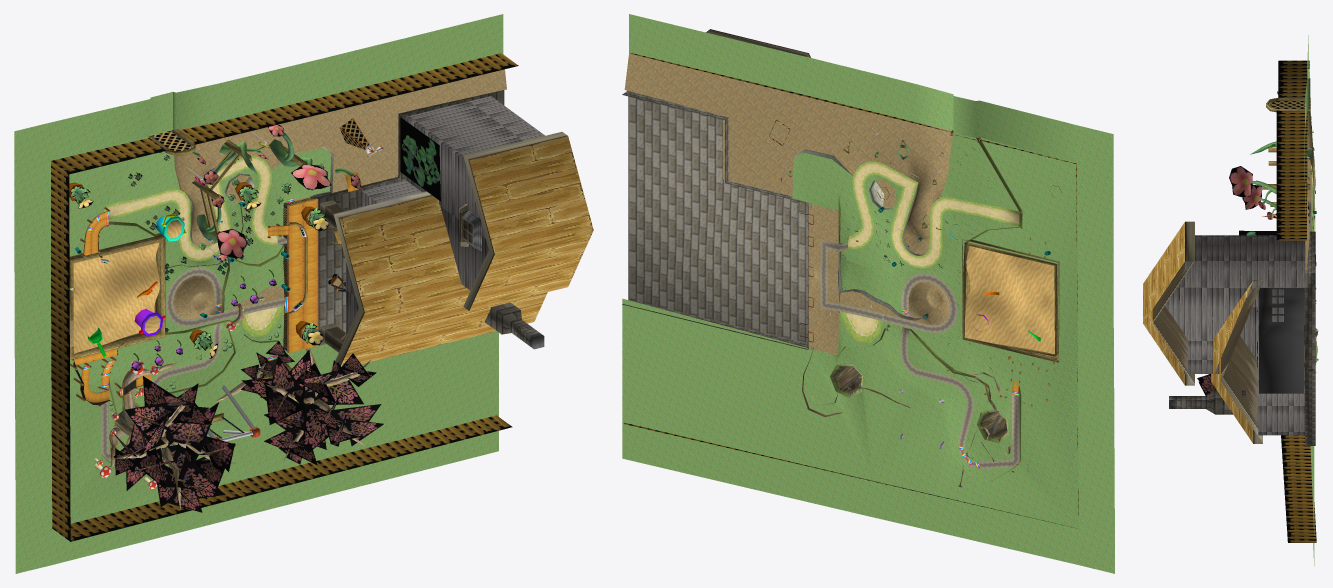
3 renders of one model, left to right at view 1: azimuth 30°, elevation 25°; view 2: azimuth 150°, elevation 25°; view 3: azimuth 270°, elevation 25°, orthographic. The views are drawn at different scales.
Parts seen in each view (by area): view 1: grass_s1, planks, foliageCombi_cn_af, fenceBiig_af_cn, dirt_s1, woodWhite, roadWallComb_s1, sand_s1, planks2, wallBricks, planksOld, woodDark (+5 smaller); view 2: grass_s1, wallBricks, dirt_s1, roadWallComb_s1, sand_s1, tree_m, planksOld, fenceBiig_af_cn, stone_s1; view 3: woodWhite, fenceBiig_af_cn, woodDark, start_s1, planks, wallBricks, foliageCombi_cn_af, grass_s1, dirt_s1, planksOld, fence2_af_cn.
Boxes of the visible parts, box(x1,y1,x2,y2) form: grass_s1: box(14, 14, 503, 573); planks: box(69, 136, 593, 407); foliageCombi_cn_af: box(70, 117, 440, 512); fenceBiig_af_cn: box(51, 53, 518, 541); dirt_s1: box(69, 52, 506, 347); woodWhite: box(346, 96, 544, 336); roadWallComb_s1: box(101, 156, 286, 471); sand_s1: box(73, 220, 182, 353); planks2: box(73, 172, 360, 460); wallBricks: box(312, 90, 539, 345); planksOld: box(69, 129, 346, 422); woodDark: box(283, 132, 567, 365); grass_s1: box(622, 14, 1114, 573); wallBricks: box(622, 90, 808, 349); dirt_s1: box(624, 52, 952, 355); roadWallComb_s1: box(820, 137, 1022, 481); sand_s1: box(964, 246, 1054, 353); tree_m: box(802, 309, 1014, 487); planksOld: box(769, 130, 1059, 392); fenceBiig_af_cn: box(624, 53, 1078, 528); stone_s1: box(794, 149, 927, 320); woodWhite: box(1165, 235, 1308, 435); fenceBiig_af_cn: box(1276, 60, 1316, 542); woodDark: box(1153, 221, 1314, 443); start_s1: box(1259, 165, 1311, 393); planks: box(1143, 131, 1316, 443); wallBricks: box(1176, 231, 1315, 445); foliageCombi_cn_af: box(1197, 91, 1315, 395); grass_s1: box(1304, 35, 1317, 565); dirt_s1: box(1305, 108, 1314, 273); planksOld: box(1262, 97, 1316, 295); fence2_af_cn: box(1270, 101, 1310, 222).
Bounding box in the file's own units: 213547 × 183426 × 80439.
Materials: 29 (29 with a texture image).
